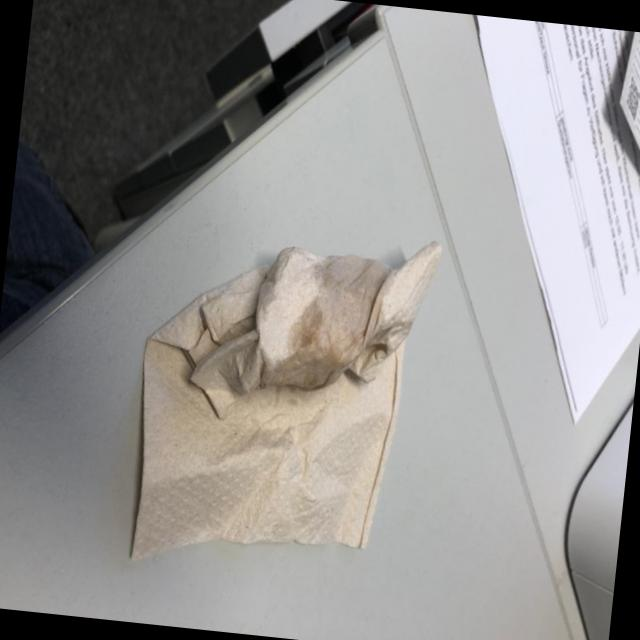organic waste: (116, 205, 447, 600)
